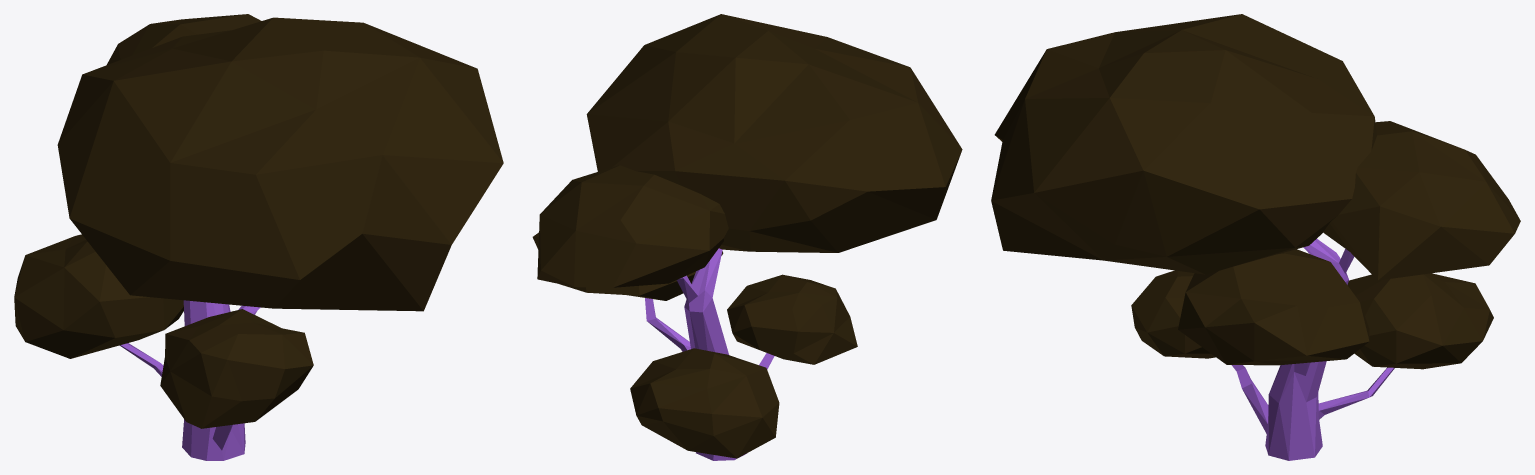
The model's file is bush03.fbx.
3 renders of one model, left to right at view 1: azimuth 30°, elevation 25°; view 2: azimuth 150°, elevation 25°; view 3: azimuth 270°, elevation 25°, orthographic. The views are drawn at different scales.
Visible parts, largest first — view 1: Cylinder; view 2: Cylinder; view 3: Cylinder.
Part boxes in pixels (x1,y1,x2,y2): Cylinder: (14,14,503,460); Cylinder: (532,14,962,460); Cylinder: (991,14,1520,460).
Bounding box in the file's own units: 0.9935 × 0.9815 × 1.16.
